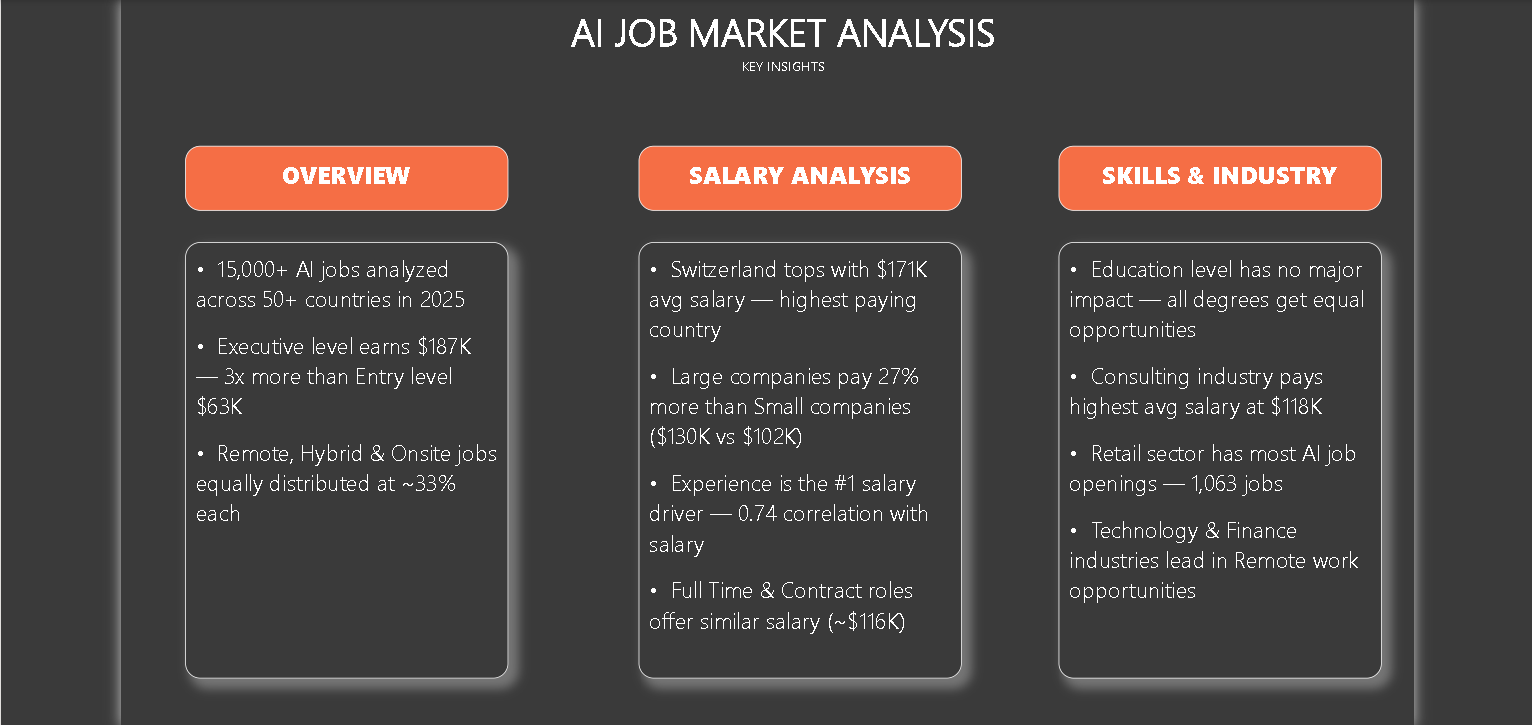

What the dashboard file says about the page in this screenshot:
{"tool":"powerbi","page":{"name":"Key Insights","canvas":[1280,720],"ordinal":3},"visuals":[{"type":"textbox","box":[0,0,1312,80],"z":0},{"type":"textbox","box":[64,240,320,432],"z":1},{"type":"textbox","box":[512,240,320,432],"z":2},{"type":"textbox","box":[928,240,320,432],"z":3},{"type":"textbox","box":[64,144,320,64],"z":4},{"type":"textbox","box":[512,144,320,64],"z":5},{"type":"textbox","box":[928,144,320,64],"z":6}]}

Visuals, with their boxes on the page's 1280x720 design canvas (x1, y1, x2, y2). These are canvas units, not pixel positions in the 1532x725 screenshot, which may show the page scaled, cropped or inside an application window:
textbox: (left=0, top=0, right=1312, bottom=80)
textbox: (left=64, top=240, right=384, bottom=672)
textbox: (left=512, top=240, right=832, bottom=672)
textbox: (left=928, top=240, right=1248, bottom=672)
textbox: (left=64, top=144, right=384, bottom=208)
textbox: (left=512, top=144, right=832, bottom=208)
textbox: (left=928, top=144, right=1248, bottom=208)
